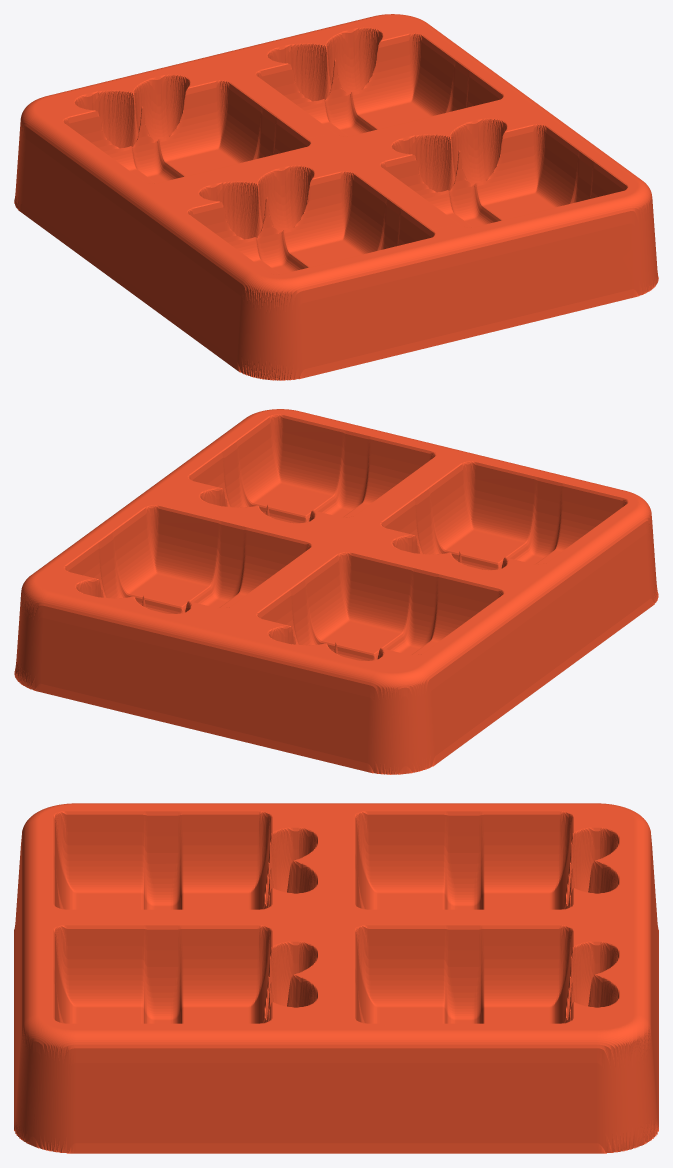
The model's file is mold.glb.
3 renders of one model, top to bottom at view 1: azimuth 30°, elevation 25°; view 2: azimuth 150°, elevation 25°; view 3: azimuth 270°, elevation 25°, orthographic. The views are drawn at different scales.
Visible parts, largest first — view 1: geometry_0; view 2: geometry_0; view 3: geometry_0.
Part boxes in pixels (left/top/right/bottom): geometry_0: left=14, top=14, right=658, bottom=380; geometry_0: left=14, top=409, right=658, bottom=774; geometry_0: left=14, top=803, right=658, bottom=1153.
Size of the model in its own units: 0.085 by 0.0182 by 0.0942.
